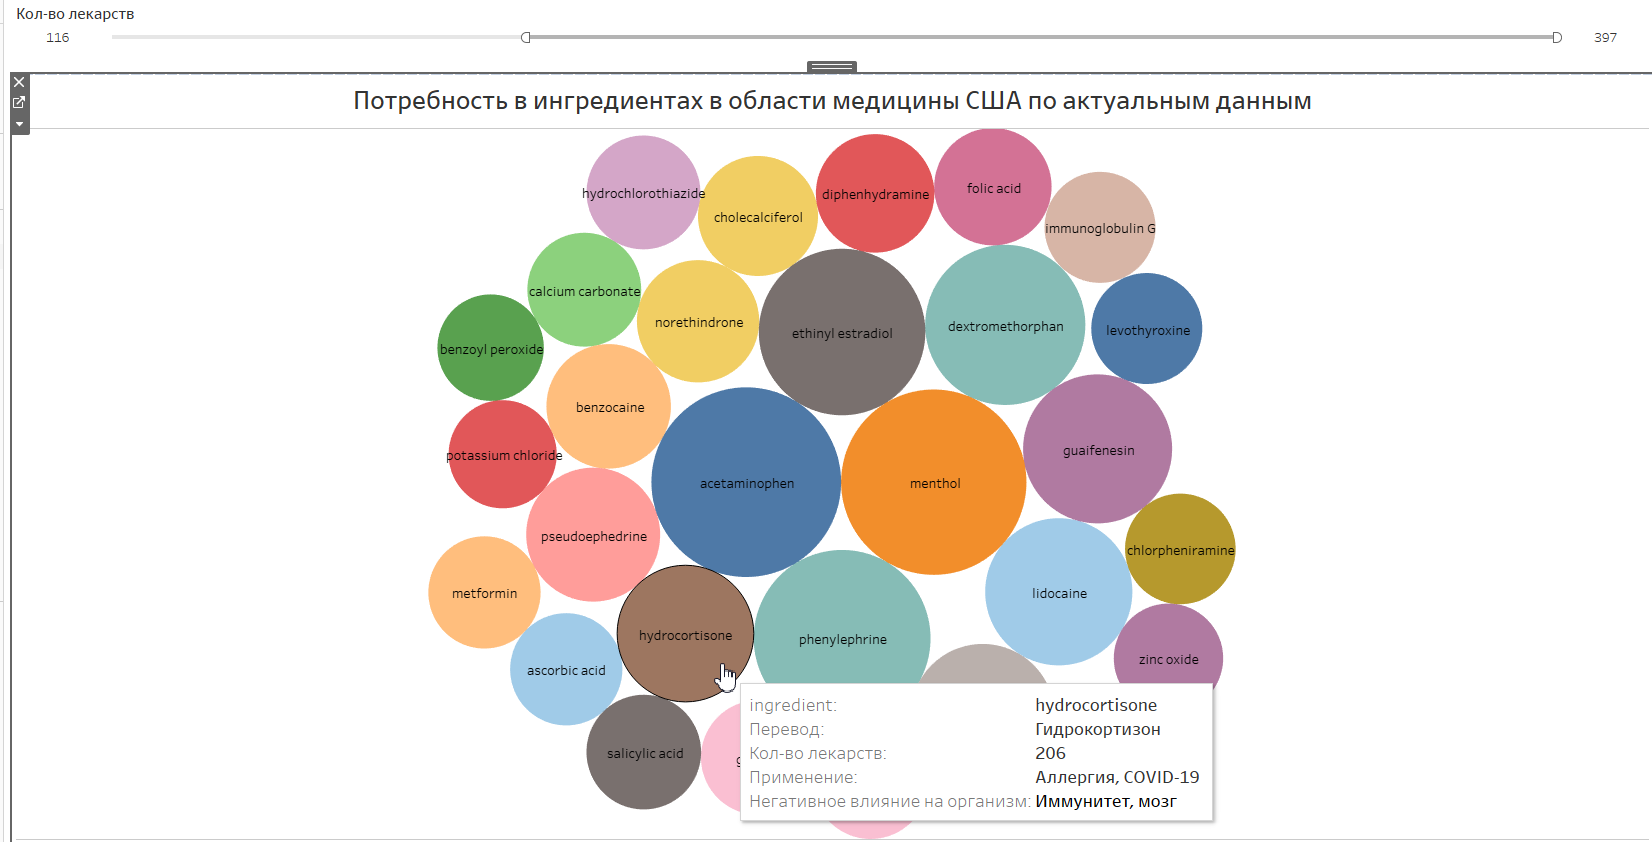

The dashboard page shown, as its layout file describes it:
{"tool":"tableau","page":{"name":"График","canvas":[1000,1000],"units":"permille","ordinal":1},"visuals":[{"type":"filter","title":"график","param":"[federated.1rqk1py0v9ujkj1gv23mi1k0dw6v].[attr:Calculation_885520310092836864:qk","box":[4.8,9.3,990.3,87.1]},{"type":"worksheet","title":"график","mark":"Circle","box":[4.8,96.4,990.3,894.3]}]}

Visuals, with their boxes on the dashboard's canvas, which has no fixed pixel size, in thousandths of its width and height (x1, y1, x2, y2). These are canvas units, not pixel positions in the 1652x842 screenshot, which may show the page scaled, cropped or inside an application window:
"график" filter: left=5, top=9, right=995, bottom=96
"график" worksheet (Circle marks): left=5, top=96, right=995, bottom=991
